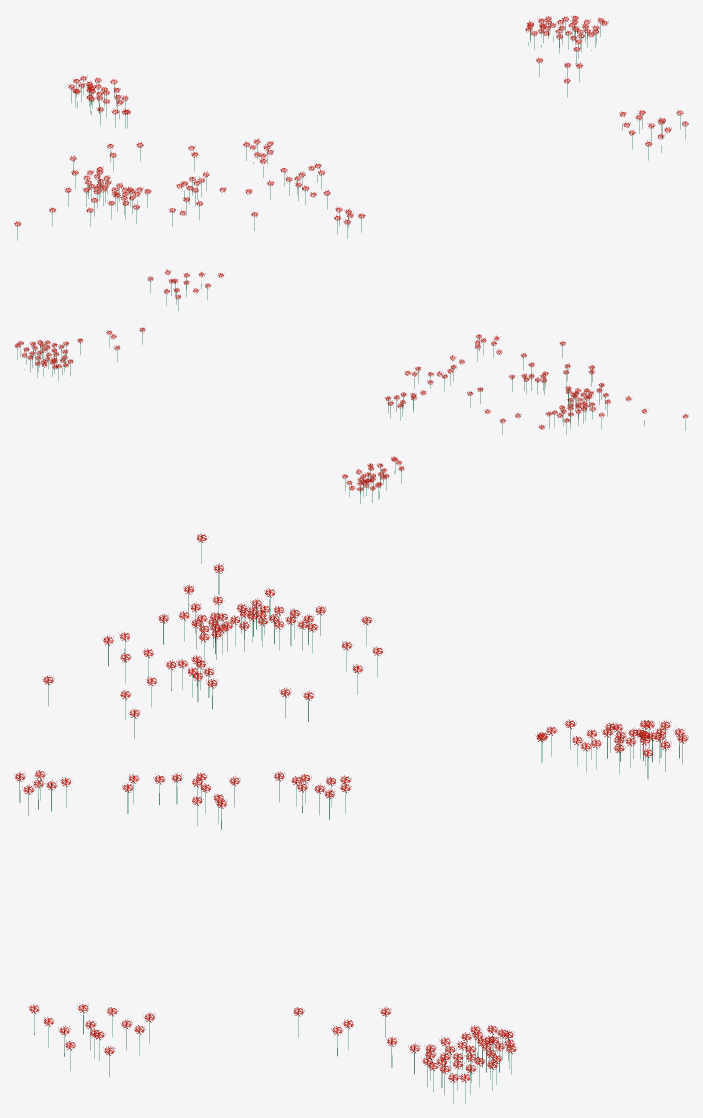
The model's file is Red Spider Lily (Banyak).fbx.
The picture shows the model from 3 angles, top to bottom: view 1: azimuth 30°, elevation 25°; view 2: azimuth 150°, elevation 25°; view 3: azimuth 270°, elevation 25°; orthographic projection. The views are drawn at different scales.
Parts seen in each view (by area): view 1: Red Spider Lily.170; view 2: Red Spider Lily.170; view 3: Red Spider Lily.170.
Boxes of the visible parts, <box> form: Red Spider Lily.170: <box>14,15,688,240</box>; Red Spider Lily.170: <box>14,269,688,503</box>; Red Spider Lily.170: <box>14,533,688,1103</box>.
Bounding box in the file's own units: 6048 × 347 × 3373.
